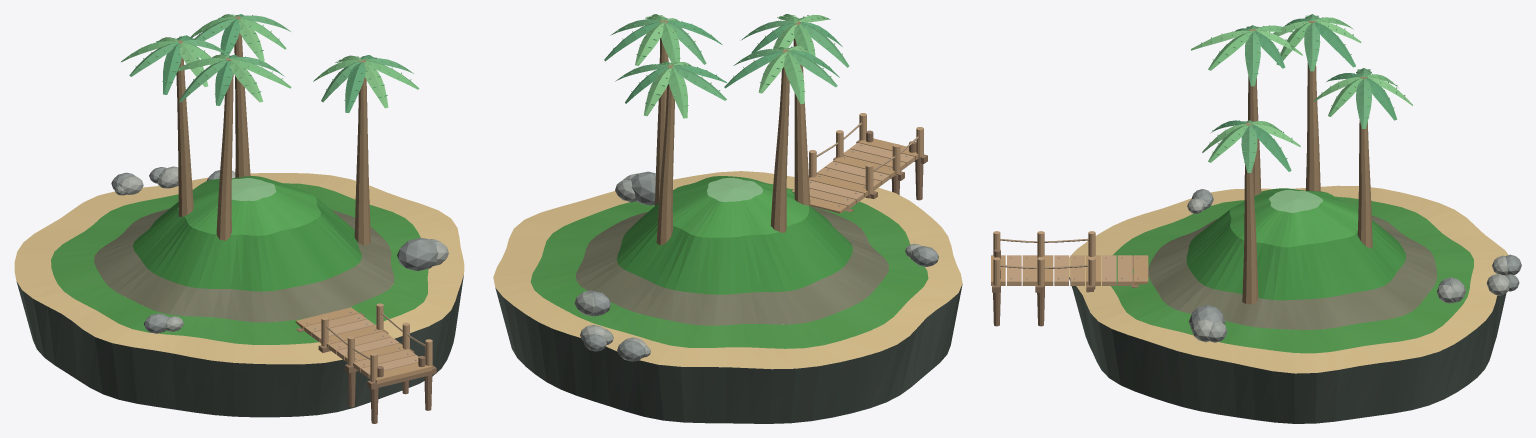
File: island_small_palm_cove.glb
3 renders of one model, left to right at view 1: azimuth 30°, elevation 25°; view 2: azimuth 150°, elevation 25°; view 3: azimuth 270°, elevation 25°, orthographic. The views are drawn at different scales.
Parts seen in each view (by area): view 1: Island_Palm_Cove_Underwater_Rock, Island_Palm_Cove_Beach, Island_Palm_Cove_Meadow_Outer, Island_Palm_Cove_Meadow_Inner, Island_Palm_Cove_Rock_Slope, Island_Palm_Cove_Hilltop, PalmTree_01, PalmTree_02, PalmTree_03, PalmTree_04, RockCluster_01, Island_Palm_Cove_Summit (+11 smaller); view 2: Island_Palm_Cove_Underwater_Rock, Island_Palm_Cove_Beach, Island_Palm_Cove_Meadow_Outer, Island_Palm_Cove_Meadow_Inner, Island_Palm_Cove_Rock_Slope, Island_Palm_Cove_Hilltop, PalmTree_03, PalmTree_04, PalmTree_02, PalmTree_01, RockCluster_01, Island_Palm_Cove_Summit (+11 smaller); view 3: Island_Palm_Cove_Underwater_Rock, Island_Palm_Cove_Beach, Island_Palm_Cove_Meadow_Outer, Island_Palm_Cove_Rock_Slope, Island_Palm_Cove_Meadow_Inner, Island_Palm_Cove_Hilltop, PalmTree_01, PalmTree_04, PalmTree_03, PalmTree_02, RockCluster_01, Island_Palm_Cove_Summit (+4 smaller).
Boxes of the visible parts, bbox=[...] form: Island_Palm_Cove_Underwater_Rock: bbox=[16, 275, 463, 417]; Island_Palm_Cove_Beach: bbox=[14, 173, 464, 364]; Island_Palm_Cove_Meadow_Outer: bbox=[51, 183, 428, 344]; Island_Palm_Cove_Meadow_Inner: bbox=[133, 197, 361, 291]; Island_Palm_Cove_Rock_Slope: bbox=[94, 208, 394, 322]; Island_Palm_Cove_Hilltop: bbox=[178, 176, 320, 235]; PalmTree_01: bbox=[313, 55, 419, 245]; PalmTree_02: bbox=[177, 54, 291, 240]; PalmTree_03: bbox=[121, 35, 229, 216]; PalmTree_04: bbox=[190, 14, 290, 177]; RockCluster_01: bbox=[397, 237, 448, 270]; Island_Palm_Cove_Summit: bbox=[231, 178, 276, 200]; Island_Palm_Cove_Underwater_Rock: bbox=[495, 284, 962, 423]; Island_Palm_Cove_Beach: bbox=[493, 171, 962, 369]; Island_Palm_Cove_Meadow_Outer: bbox=[530, 188, 928, 348]; Island_Palm_Cove_Meadow_Inner: bbox=[616, 190, 852, 294]; Island_Palm_Cove_Rock_Slope: bbox=[576, 206, 888, 325]; Island_Palm_Cove_Hilltop: bbox=[672, 176, 809, 237]; PalmTree_03: bbox=[724, 46, 839, 232]; PalmTree_04: bbox=[615, 61, 726, 245]; PalmTree_02: bbox=[740, 14, 849, 206]; PalmTree_01: bbox=[604, 14, 722, 205]; RockCluster_01: bbox=[615, 171, 655, 205]; Island_Palm_Cove_Summit: bbox=[707, 178, 762, 201]; Island_Palm_Cove_Underwater_Rock: bbox=[1069, 277, 1506, 423]; Island_Palm_Cove_Beach: bbox=[1069, 185, 1508, 373]; Island_Palm_Cove_Meadow_Outer: bbox=[1111, 196, 1473, 353]; Island_Palm_Cove_Rock_Slope: bbox=[1148, 216, 1437, 329]; Island_Palm_Cove_Meadow_Inner: bbox=[1186, 208, 1405, 300]; Island_Palm_Cove_Hilltop: bbox=[1229, 188, 1358, 247]; PalmTree_01: bbox=[1202, 120, 1300, 304]; PalmTree_04: bbox=[1313, 68, 1412, 248]; PalmTree_03: bbox=[1273, 14, 1361, 191]; PalmTree_02: bbox=[1191, 25, 1302, 195]; RockCluster_01: bbox=[1189, 304, 1227, 342]; Island_Palm_Cove_Summit: bbox=[1269, 190, 1322, 212].
Bounding box in the file's own units: 11.77 × 8.39 × 14.07.
